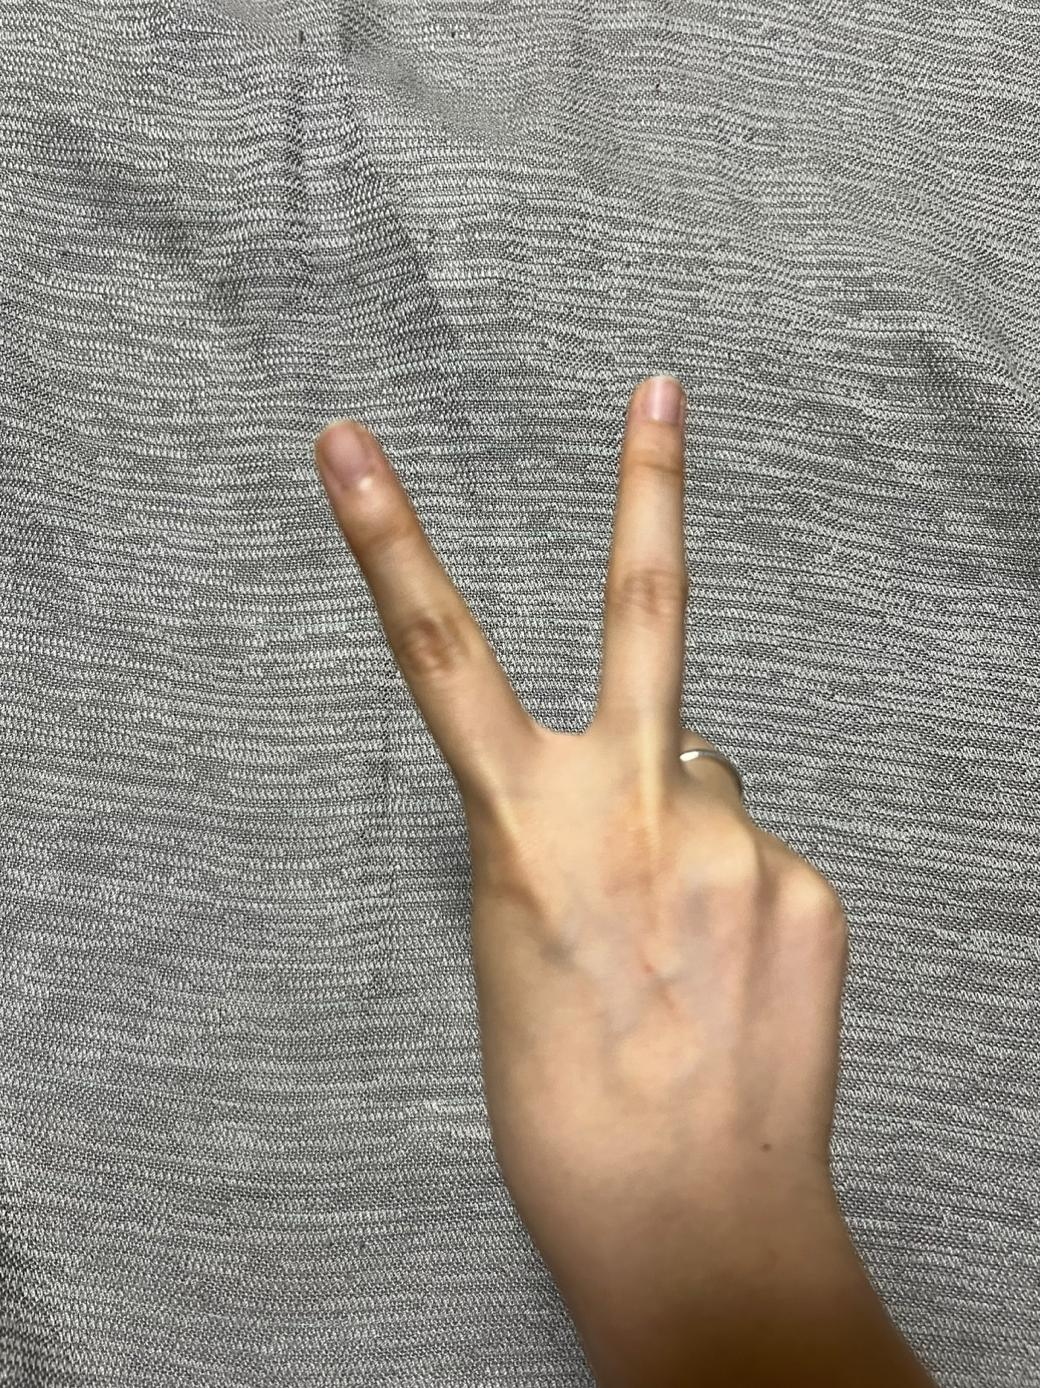v: (311, 367, 907, 1361)
